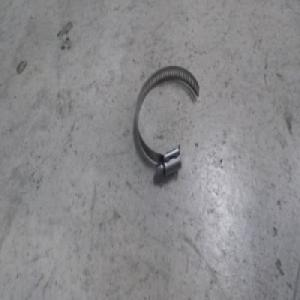AdjustableClamp: (131, 59, 197, 172)
